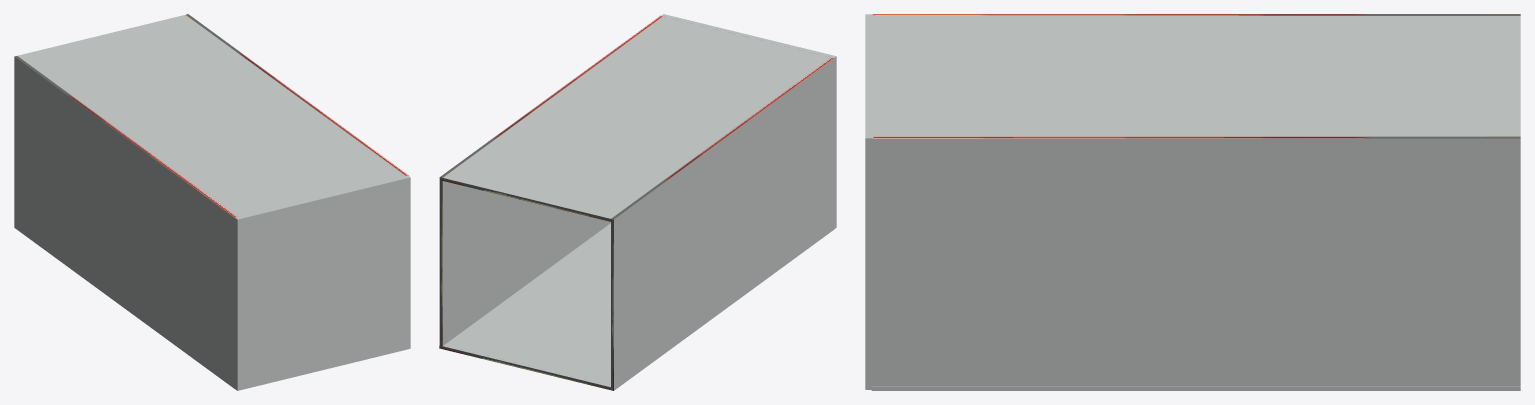
The model's file is corridoio.glb.
3 views of the same model, side by side, from view 1: azimuth 30°, elevation 25°; view 2: azimuth 150°, elevation 25°; view 3: azimuth 270°, elevation 25° (orthographic). The views are drawn at different scales.
Parts seen in each view (by area): view 1: Cube.001; view 2: Cube.001; view 3: Cube.001.
Part boxes in pixels (<box>): Cube.001: <box>14,14,410,390</box>; Cube.001: <box>439,14,836,390</box>; Cube.001: <box>865,14,1520,390</box>.
Size of what is drawn, in the model's own units: 6.08 by 5.71 by 13.47.
5 materials, 5 textured.
